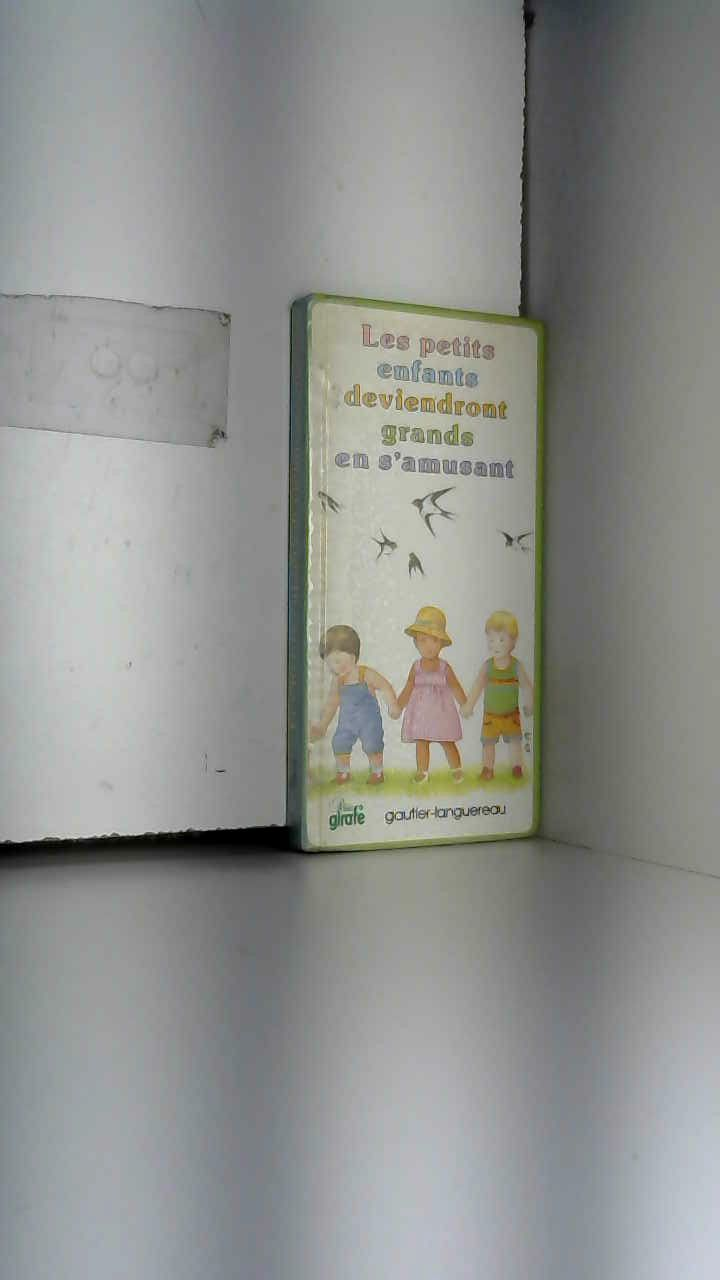book: (250, 256, 592, 900)
